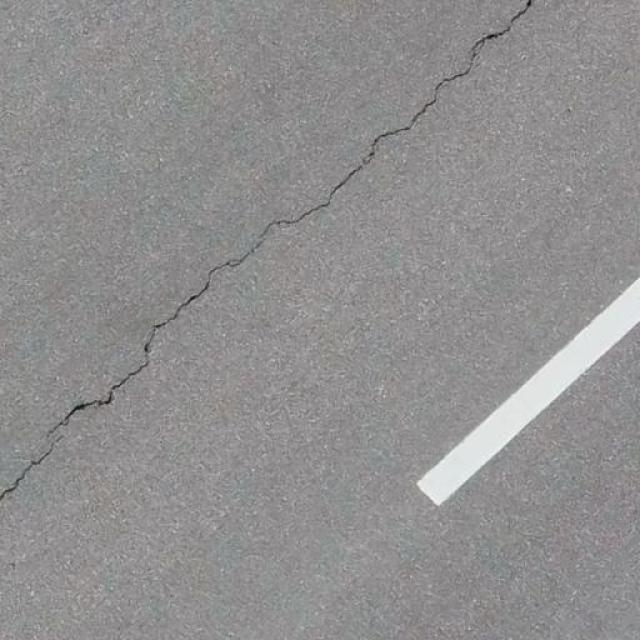Crack: (314, 0, 544, 216), (106, 184, 332, 378), (2, 358, 146, 506)
